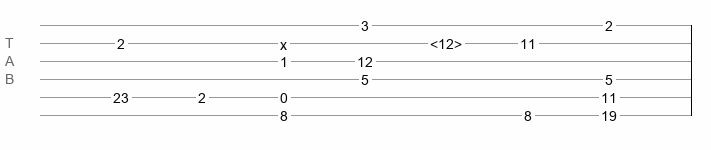0: (280, 90, 288, 100)
1: (280, 54, 288, 64)
11: (520, 36, 536, 46), (601, 90, 617, 100)
12: (357, 54, 373, 64)
19: (601, 108, 617, 118)
2: (117, 36, 125, 46), (198, 90, 206, 100), (605, 18, 613, 28)
23: (113, 90, 129, 100)
3: (361, 18, 369, 28)
5: (361, 72, 369, 82), (605, 72, 613, 82)
8: (280, 108, 288, 118), (524, 108, 532, 118)
harmonic: (430, 36, 462, 46)
x: (280, 37, 287, 45)
